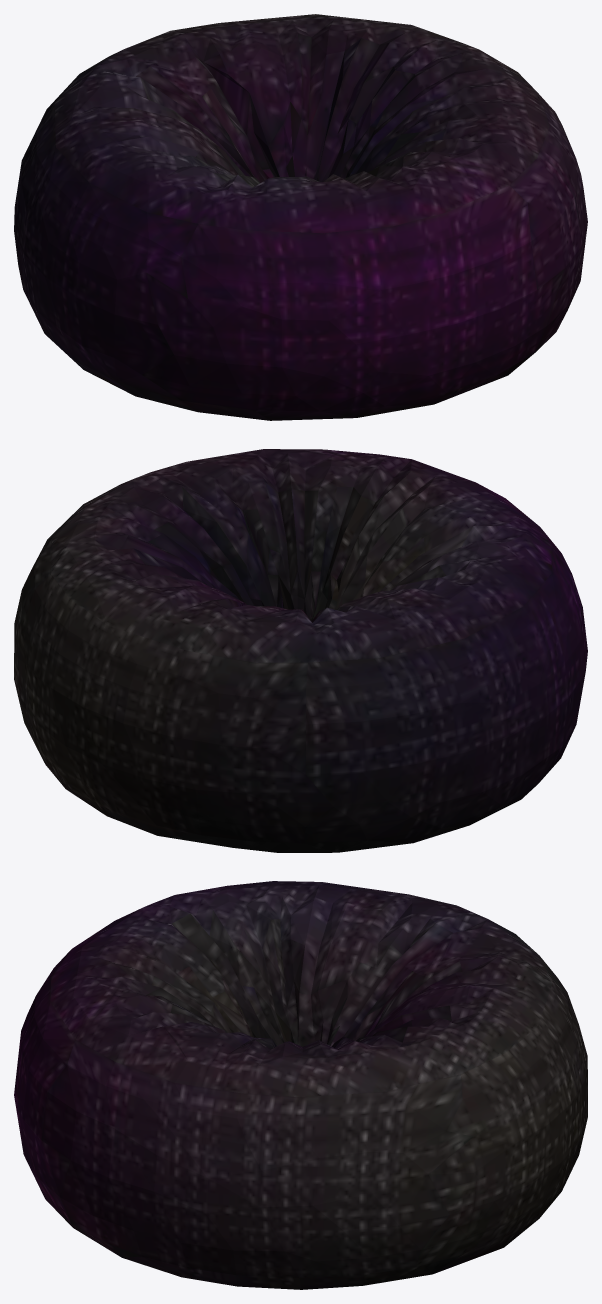
File: beanbag2Night-transformed.glb
The picture shows the model from 3 angles, top to bottom: view 1: azimuth 30°, elevation 25°; view 2: azimuth 150°, elevation 25°; view 3: azimuth 270°, elevation 25°; orthographic projection.
Visible parts, largest first — view 1: beanbag2; view 2: beanbag2; view 3: beanbag2.
Boxes of the visible parts, <box> form: beanbag2: <box>14,14,587,420</box>; beanbag2: <box>14,449,587,852</box>; beanbag2: <box>14,881,587,1289</box>.
Size of the model in its own units: 1.22 by 0.513 by 1.21.
Materials: 1 (1 with a texture image).
